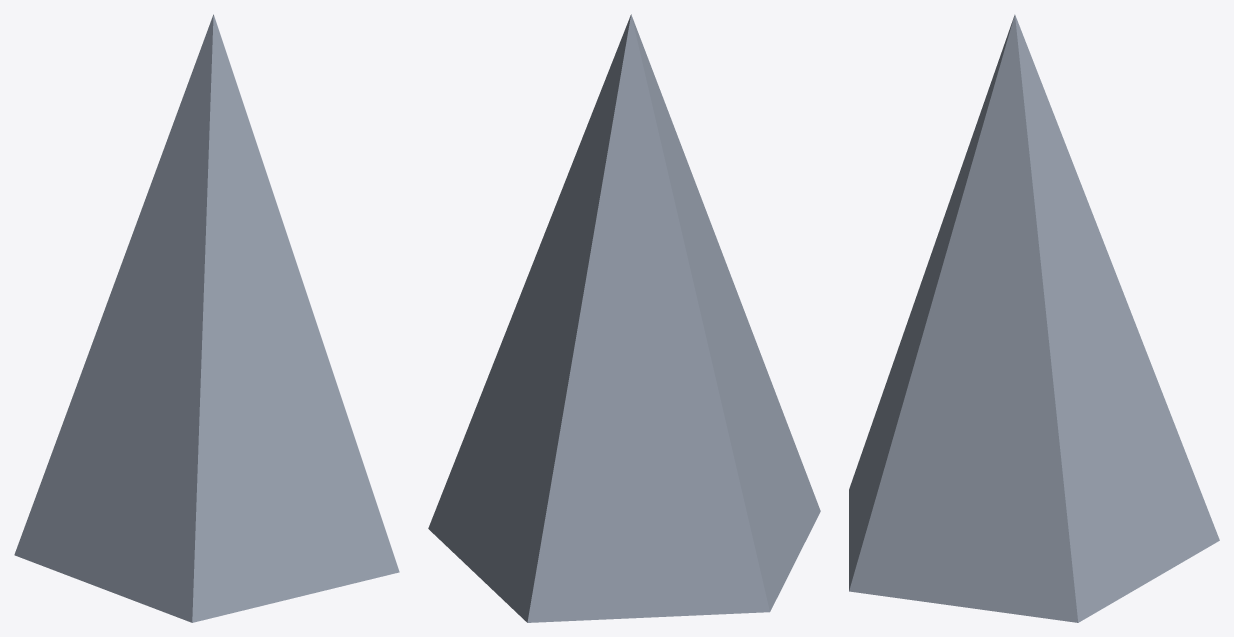
Rendered from armour_spike.glb.
3 views of the same model, side by side, from view 1: azimuth 30°, elevation 25°; view 2: azimuth 150°, elevation 25°; view 3: azimuth 270°, elevation 25° (orthographic).
Visible parts, largest first — view 1: armour_spike; view 2: armour_spike; view 3: armour_spike.
Boxes of the visible parts, x1,y1,x2,y2 form: armour_spike: (14, 14, 399, 622); armour_spike: (428, 14, 820, 622); armour_spike: (849, 14, 1219, 622).
Size of the model in its own units: 0.2283 by 0.34 by 0.2171.
